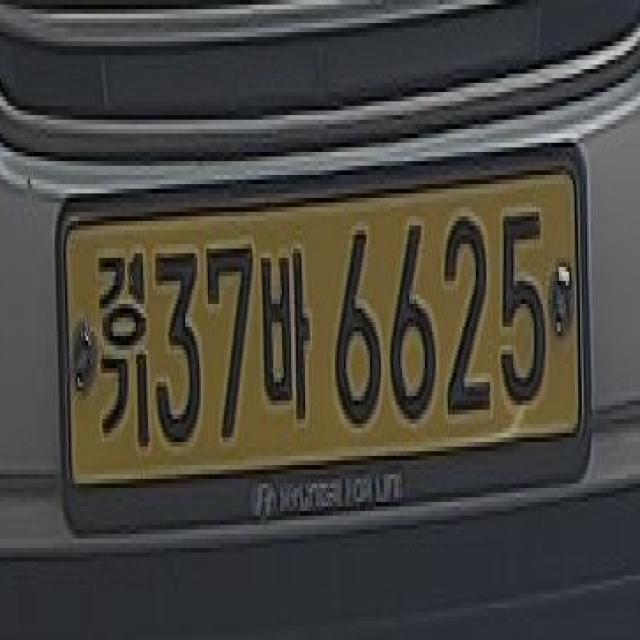plat: (59, 156, 587, 502)
